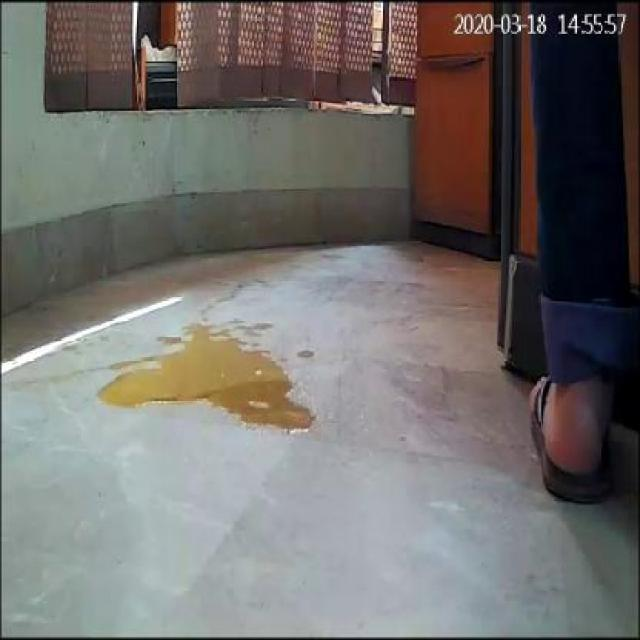spill: (99, 322, 310, 438)
